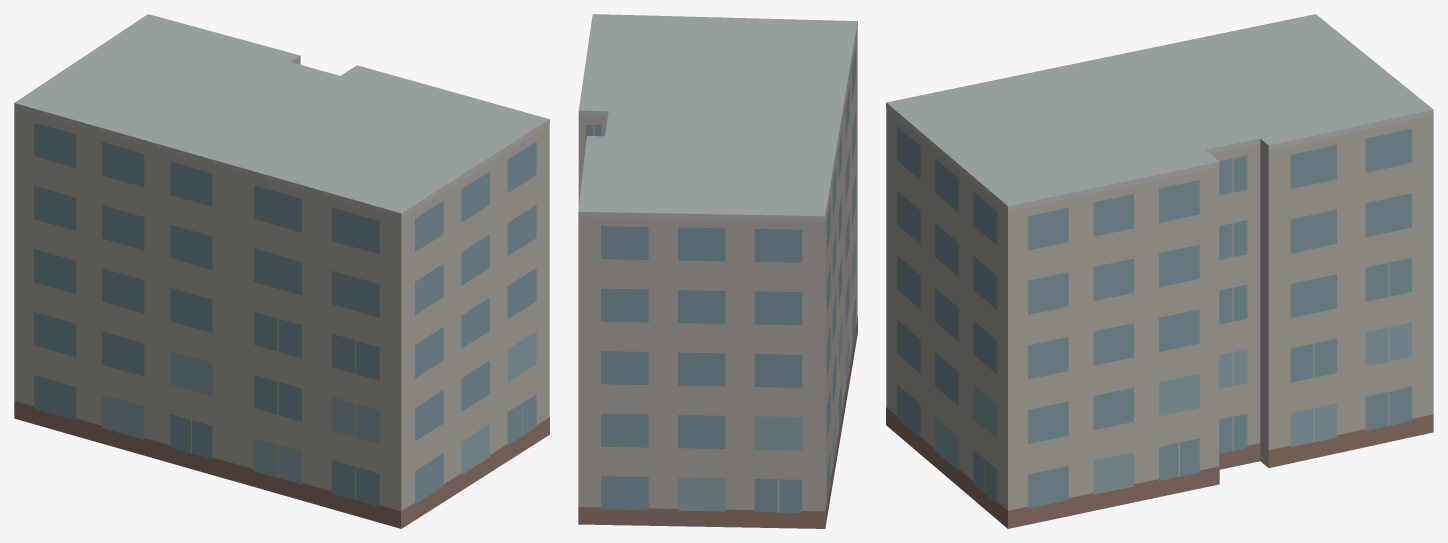
The model's file is survey-upis-32674332.glb.
The picture shows the model from 3 angles, left to right: view 1: azimuth 30°, elevation 25°; view 2: azimuth 150°, elevation 25°; view 3: azimuth 270°, elevation 25°; orthographic projection. The views are drawn at different scales.
Visible parts, largest first — view 1: survey-upis-32674332.tmp; view 2: survey-upis-32674332.tmp; view 3: survey-upis-32674332.tmp.
Boxes of the visible parts, x1=… form: survey-upis-32674332.tmp: x1=14, y1=14, x2=549, y2=528; survey-upis-32674332.tmp: x1=578, y1=14, x2=857, y2=528; survey-upis-32674332.tmp: x1=886, y1=14, x2=1433, y2=528.
Size of the model in its own units: 18.85 by 14.75 by 22.69.
